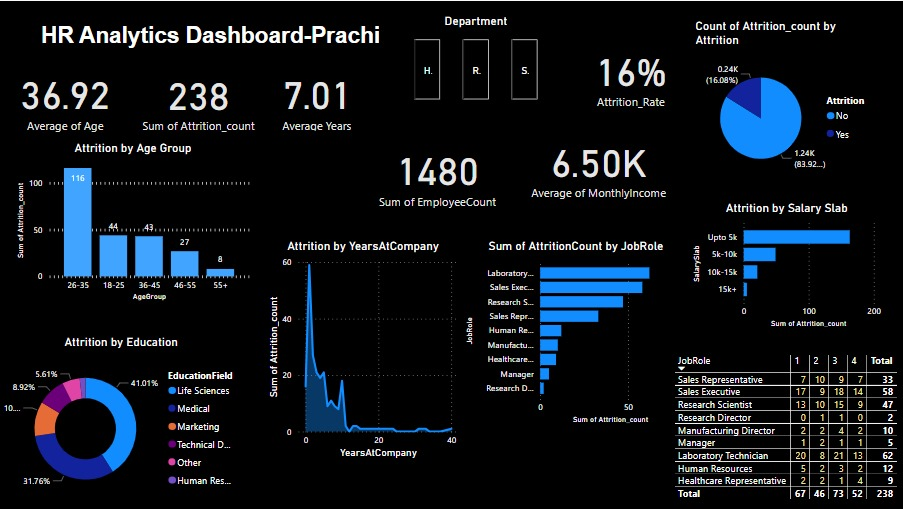

The dashboard page shown, as its layout file describes it:
{"tool":"powerbi","page":{"name":"HR Analytics","canvas":[1280,720],"ordinal":1},"visuals":[{"type":"textbox","box":[0,25.5,599.5,59.5],"z":0},{"type":"card","fields":{"Values":["HR_Analytics.Age"]},"box":[15.6,85,157.3,106.3],"z":1000},{"type":"card","fields":{"Values":["HR_Analytics.MonthlyIncome"]},"box":[737,168.7,226.8,130.4],"z":2000},{"type":"card","fields":{"Values":["HR_Analytics.Average Years"]},"box":[385.5,87.9,130.4,100.6],"z":3000},{"type":"card","fields":{"Values":["HR_Analytics.Attrition_count"]},"box":[189.9,86.5,185.7,104.9],"z":4000},{"type":"card","fields":{"Values":["HR_Analytics.EmployeeCount"]},"box":[528.7,188.5,185.7,114.8],"z":5000},{"type":"card","fields":{"Values":["HR_Analytics.Attrition_Rate"]},"box":[829.1,52.4,133.2,104.9],"z":6000},{"type":"donutChart","title":" Attrition by Education","fields":{"Y":["HR_Analytics.Attrition"],"Category":["HR_Analytics.EducationField"]},"box":[0,472,344.4,248],"z":7000},{"type":"columnChart","title":"Attrition by Age Group","fields":{"Category":["HR_Analytics.AgeGroup"],"Y":["HR_Analytics.Attrition_count"]},"box":[19.8,198.4,340.2,231],"z":8000},{"type":"barChart","title":"Attrition by Salary Slab","fields":{"Category":["HR_Analytics.SalarySlab"],"Y":["HR_Analytics.Attrition_count"]},"box":[976.5,282,277.8,184.3],"z":9000},{"type":"barChart","title":"Sum of AttritionCount by JobRole","fields":{"Y":["HR_Analytics.Attrition_count"],"Category":["HR_Analytics.JobRole"]},"box":[656.2,337.3,323.1,266.5],"z":10000},{"type":"pieChart","fields":{"Category":["HR_Analytics.Attrition"],"Y":["HR_Analytics.Attrition_count"]},"box":[982.2,25.5,266.5,243.8],"z":11000},{"type":"areaChart","title":"Attrition by YearsAtCompany","fields":{"Category":["HR_Analytics.YearsAtCompany"],"Y":["HR_Analytics.Attrition_count"]},"box":[375.6,337.3,280.6,316.1],"z":12000},{"type":"pivotTable","fields":{"Values":["HR_Analytics.Attrition_count"],"Rows":["HR_Analytics.JobRole"],"Columns":["HR_Analytics.JobSatisfaction"]},"box":[951.8,495.4,328.3,224.6],"z":13000},{"type":"advancedSlicerVisual","fields":{"Values":["HR_Analytics.Department"]},"box":[571.2,18.4,209.8,138.9],"z":14000}]}

Visuals, with their boxes in screenshot pixels (x1, y1, x2, y2), scaled from the page's 1280x720 canvas onto the 903x509 screenshot:
textbox: l=0, t=18, r=423, b=60
card - HR_Analytics.Age: l=11, t=60, r=122, b=135
card - HR_Analytics.MonthlyIncome: l=520, t=119, r=680, b=211
card - HR_Analytics.Average Years: l=272, t=62, r=364, b=133
card - HR_Analytics.Attrition_count: l=134, t=61, r=265, b=135
card - HR_Analytics.EmployeeCount: l=373, t=133, r=504, b=214
card - HR_Analytics.Attrition_Rate: l=585, t=37, r=679, b=111
" Attrition by Education" donutChart: l=0, t=334, r=243, b=508
"Attrition by Age Group" columnChart: l=14, t=140, r=254, b=304
"Attrition by Salary Slab" barChart: l=689, t=199, r=885, b=330
"Sum of AttritionCount by JobRole" barChart: l=463, t=238, r=691, b=427
pieChart - HR_Analytics.Attrition x HR_Analytics.Attrition_count: l=693, t=18, r=881, b=190
"Attrition by YearsAtCompany" areaChart: l=265, t=238, r=463, b=462
pivotTable - HR_Analytics.Attrition_count x HR_Analytics.JobRole: l=671, t=350, r=902, b=508
advancedSlicerVisual - HR_Analytics.Department: l=403, t=13, r=551, b=111
